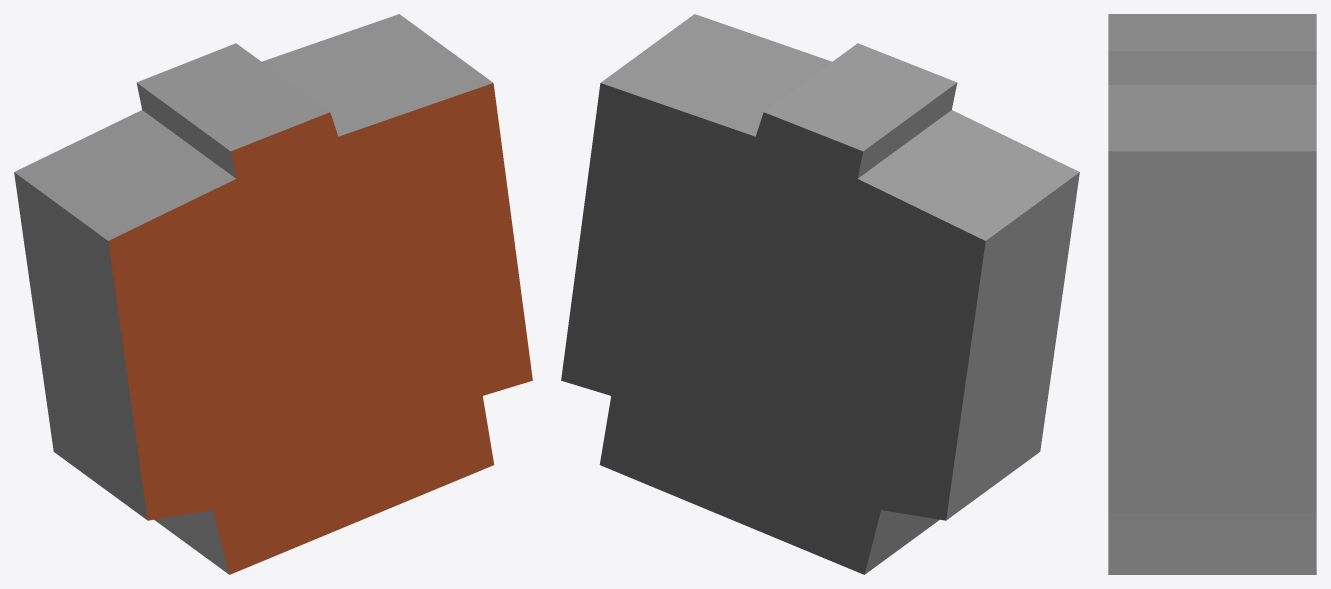
File: construction_5869_assumed_A_Casa_h6m.obj
3 renders of one model, left to right at view 1: azimuth 30°, elevation 25°; view 2: azimuth 150°, elevation 25°; view 3: azimuth 270°, elevation 25°, orthographic. The views are drawn at different scales.
Visible parts, largest first — view 1: construction_5869_assumed_A_Casa; view 2: construction_5869_assumed_A_Casa; view 3: construction_5869_assumed_A_Casa.
Boxes of the visible parts, <box> form: construction_5869_assumed_A_Casa: <box>14,14,532,574</box>; construction_5869_assumed_A_Casa: <box>561,14,1079,574</box>; construction_5869_assumed_A_Casa: <box>1108,14,1316,574</box>.
Bounding box in the file's own units: 15.62 × 15.4 × 6.
